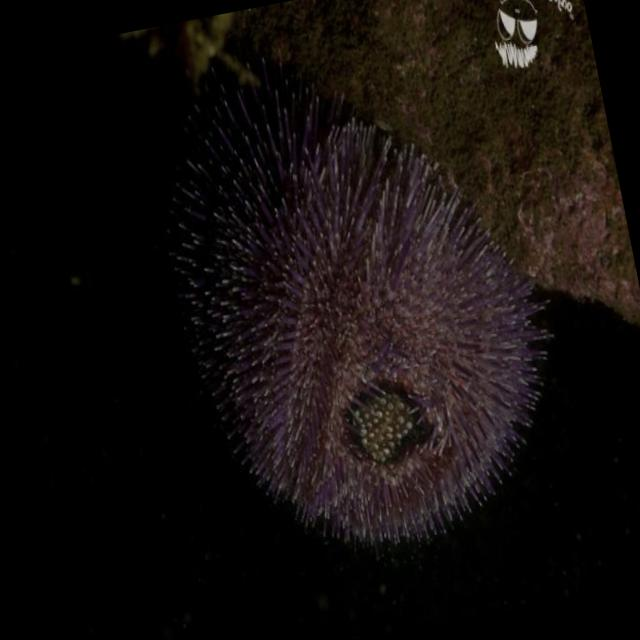Deniz Kestanesi: (129, 12, 587, 580)
